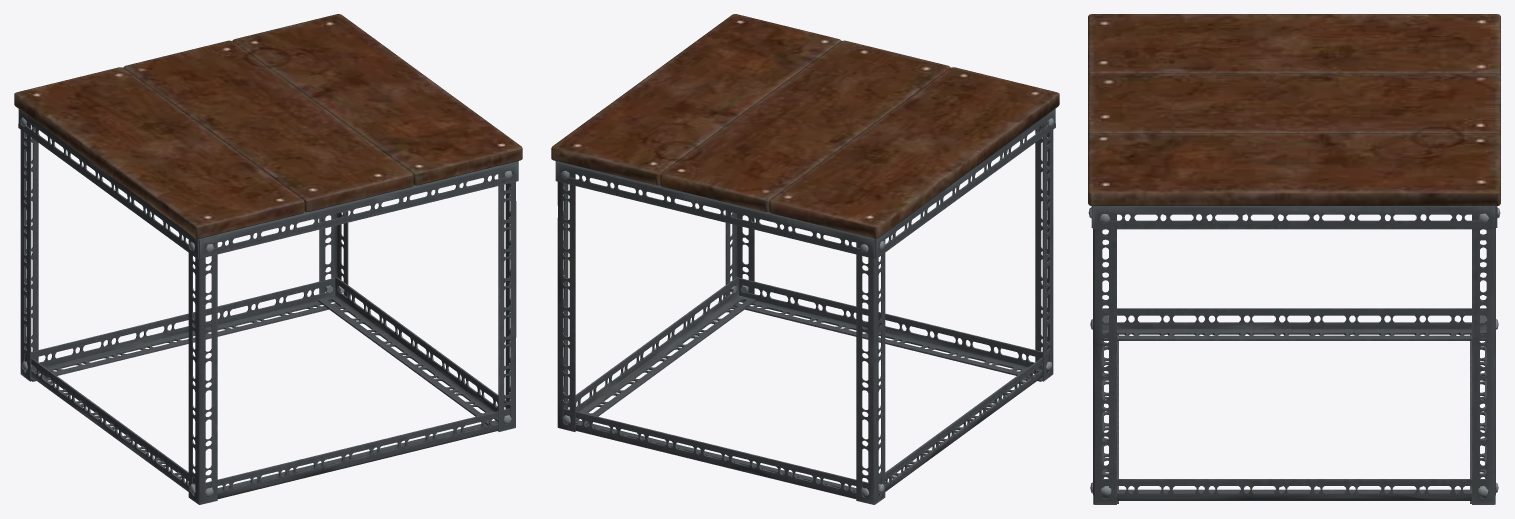
File: industrial_coffee_table.glb
3 views of the same model, side by side, from view 1: azimuth 30°, elevation 25°; view 2: azimuth 150°, elevation 25°; view 3: azimuth 270°, elevation 25° (orthographic). The views are drawn at different scales.
Parts seen in each view (by area): view 1: industrial_coffee_table; view 2: industrial_coffee_table; view 3: industrial_coffee_table.
Boxes of the visible parts, box(x1,y1,x2,y2) form: industrial_coffee_table: box(14, 14, 522, 504); industrial_coffee_table: box(551, 14, 1059, 504); industrial_coffee_table: box(1088, 14, 1500, 504).
Size of the model in its own units: 0.7783 by 0.6384 by 0.7579.
1 material, 1 textured.
